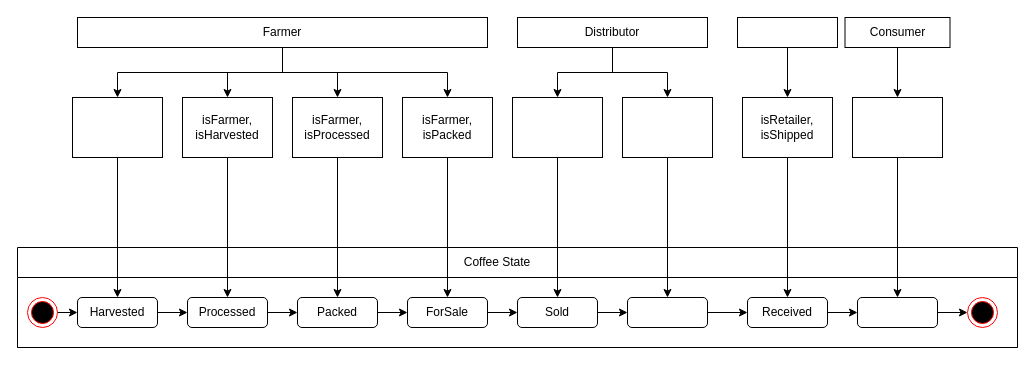
The diagram is 1035 pixels wide and 365 high, and some of its shapes have lost their labels. The box of each missing label's shape, as (x1, y1, x2, y2) in pixels:
isConsumer, isReceived: (852, 96, 942, 158)
isDistributor, isForSale: (512, 96, 602, 158)
isDistributor, isSold: (622, 96, 712, 158)
isFarmer: (72, 96, 162, 158)
Purchased: (856, 296, 938, 328)
Retailer: (736, 16, 838, 48)
Shipped: (626, 296, 708, 328)
